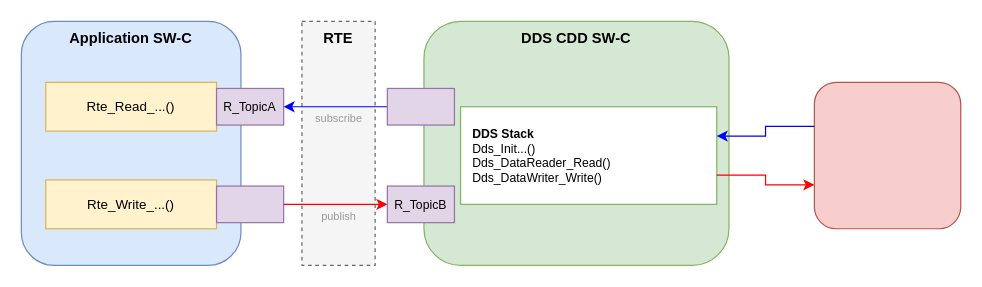
Image size: 982x287. Some labels were removed from this diagram. Each missing label, with the centre of its shape:
"Communication Services (Network)" belongs at (x=887, y=155).
"S_TopicA" belongs at (x=420, y=106).
"S_TopicB" belongs at (x=249, y=204).
